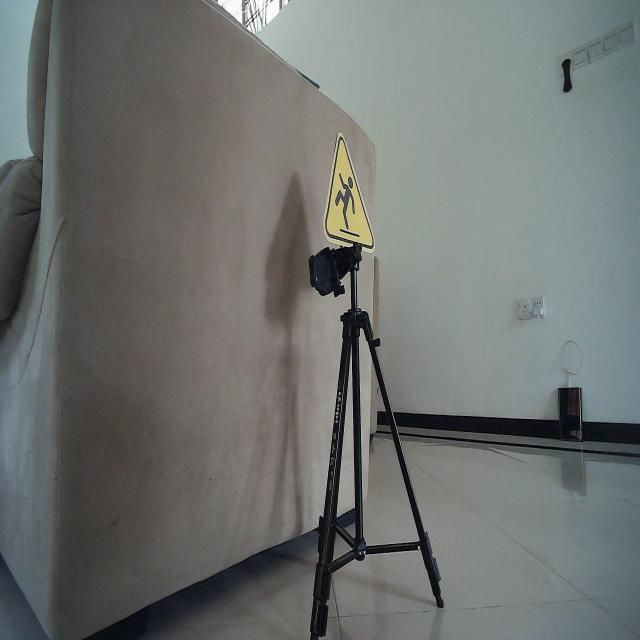slippery_sign: (322, 128, 376, 252)
